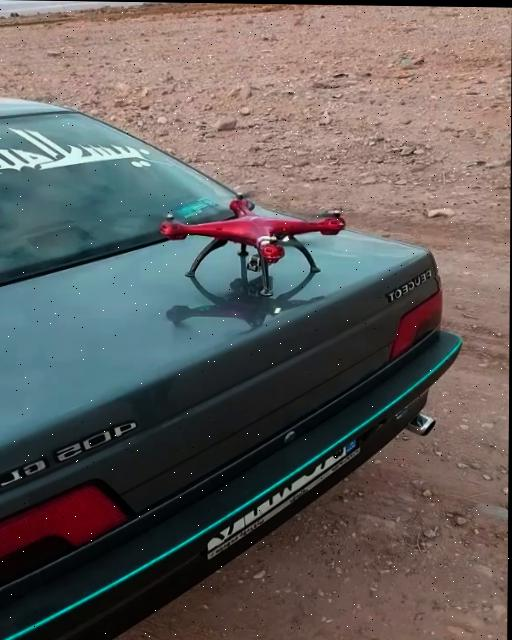drone: (151, 184, 352, 302)
